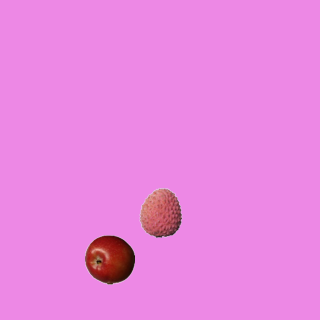Apple Braeburn: (84, 234, 134, 284)
Lychee: (135, 187, 185, 237)
